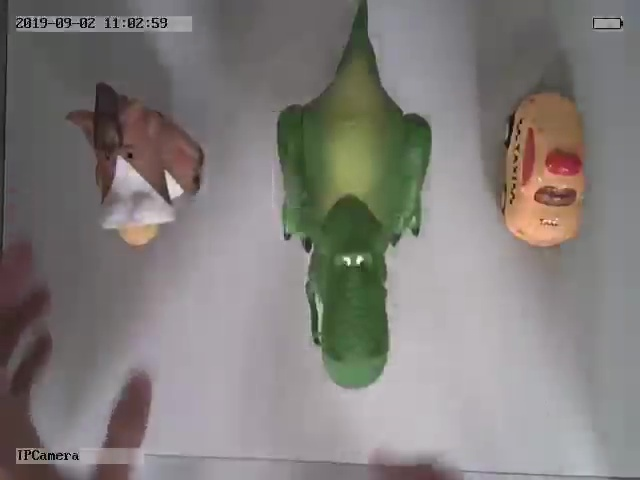car: (498, 90, 587, 250)
horse: (64, 81, 206, 247)
rex: (273, 2, 435, 391)
